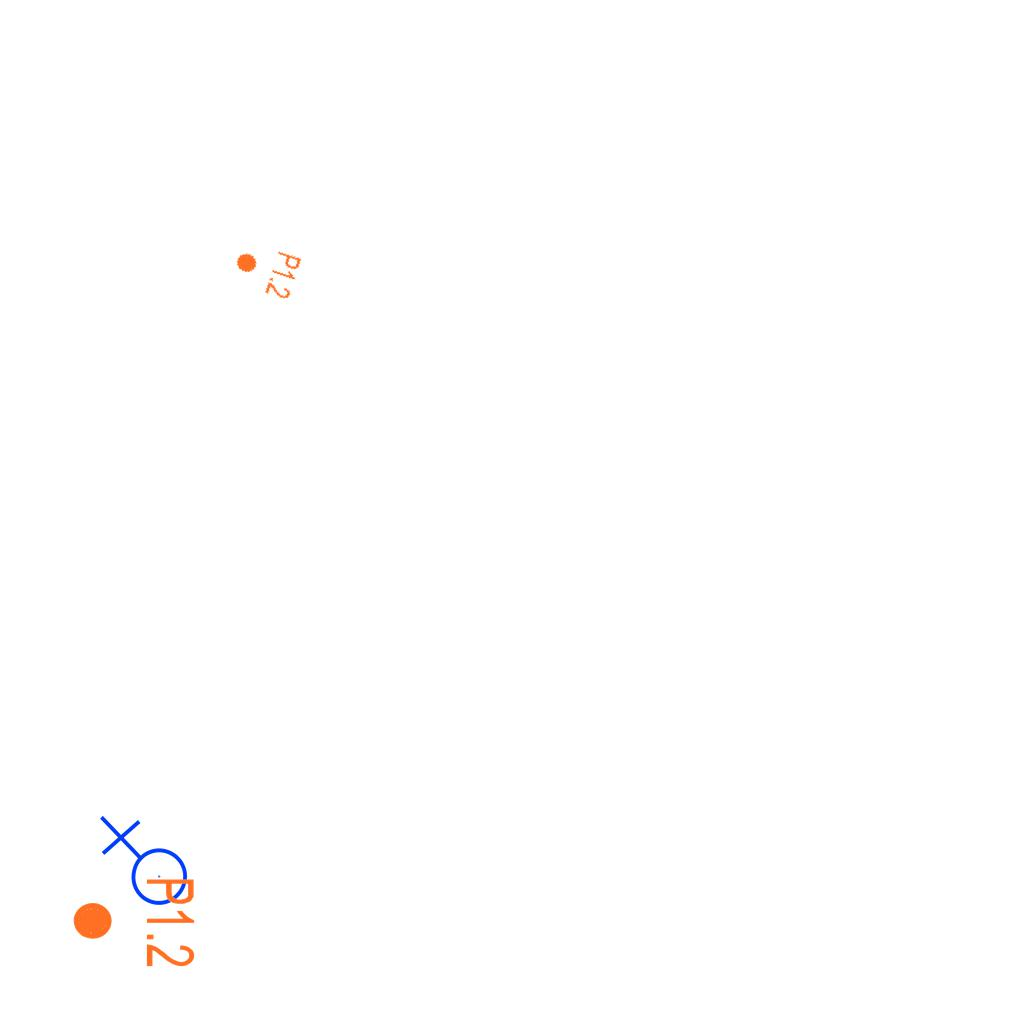Downlight_LED_Einbauleuchten_Flur: (70, 876, 198, 969), (228, 238, 304, 302)
Elektroanschluss_allgemein_230V_Geraeteanschlussdose_230V: (95, 815, 189, 914)
